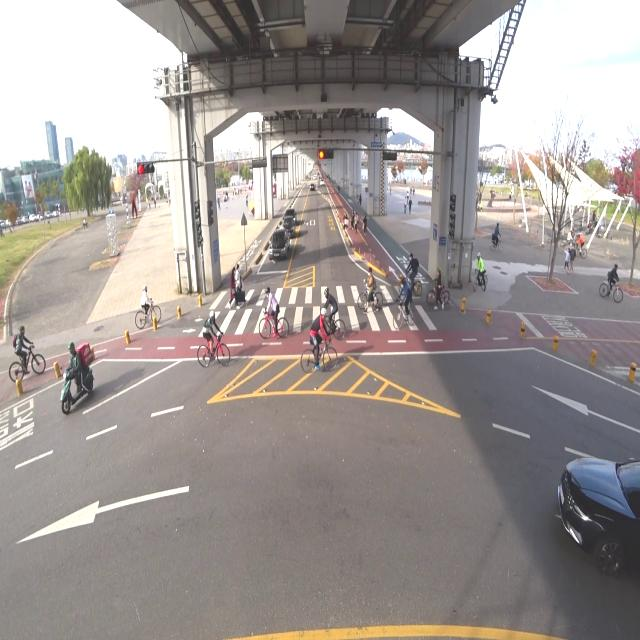Car: (545, 421, 640, 588), (269, 230, 290, 262), (280, 214, 296, 241), (285, 201, 296, 221), (308, 180, 316, 194)
Motorcycle: (59, 339, 96, 415)
